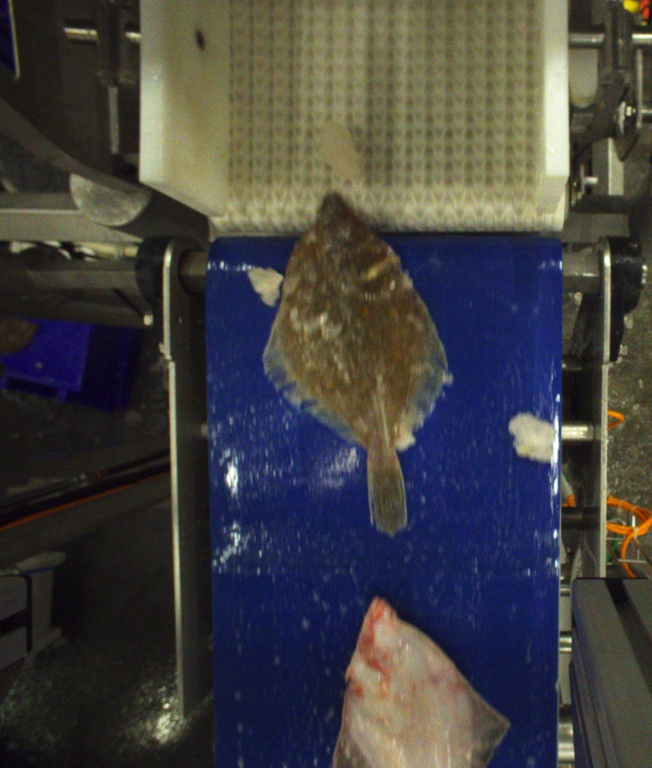PLE: (265, 191, 447, 537)
